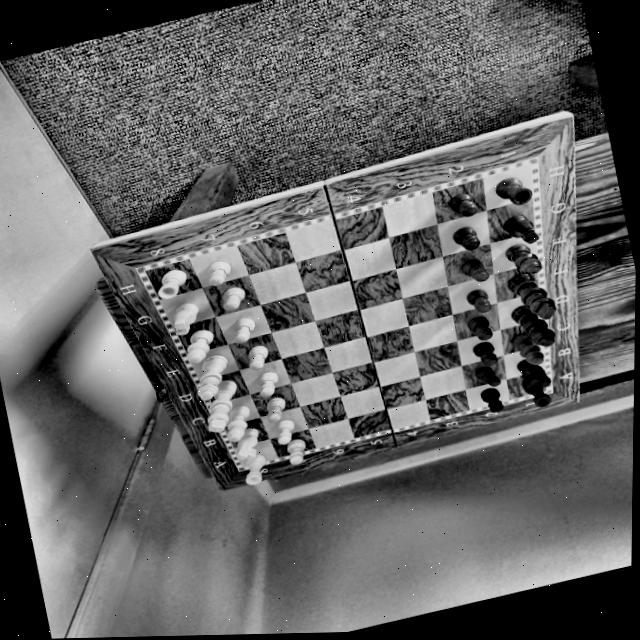black-bishop: (499, 236, 549, 279), (505, 328, 548, 372)
black-king: (502, 264, 561, 329)
black-knight: (509, 351, 555, 395), (498, 208, 545, 250)
black-pawn: (442, 186, 483, 224), (446, 220, 485, 257), (455, 252, 493, 286), (461, 283, 497, 318), (463, 311, 496, 345), (469, 337, 501, 369), (475, 384, 507, 416), (471, 362, 503, 391)
black-queen: (506, 297, 559, 354)
black-rook: (489, 170, 537, 211), (518, 373, 555, 412)
white-bishop: (177, 324, 222, 366), (216, 400, 256, 446)
white-king: (194, 375, 247, 436)
white-knight: (227, 423, 267, 464), (165, 297, 204, 338)
white-pawn: (199, 253, 237, 289), (213, 281, 252, 316), (278, 434, 313, 472), (223, 313, 260, 347), (238, 341, 275, 374), (259, 392, 293, 425), (250, 368, 283, 400), (268, 419, 299, 448)
white-queen: (183, 351, 238, 405)
white-rook: (149, 263, 193, 303), (236, 449, 273, 489)
